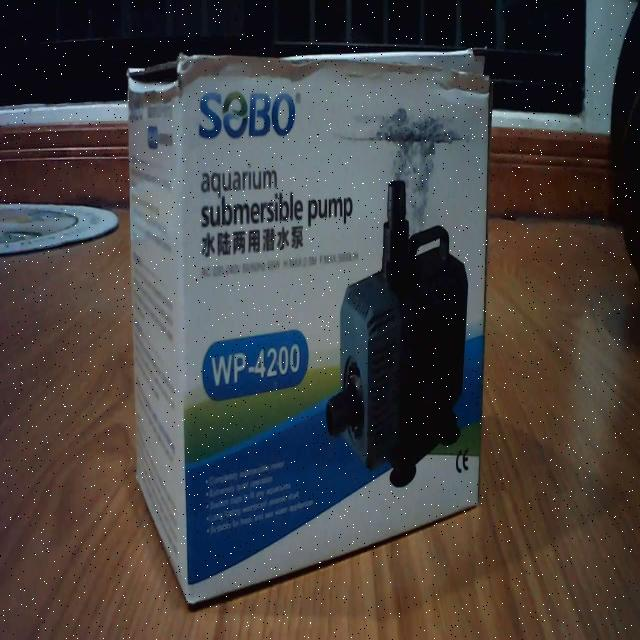SOBO_WP_4200: (120, 29, 496, 612)
